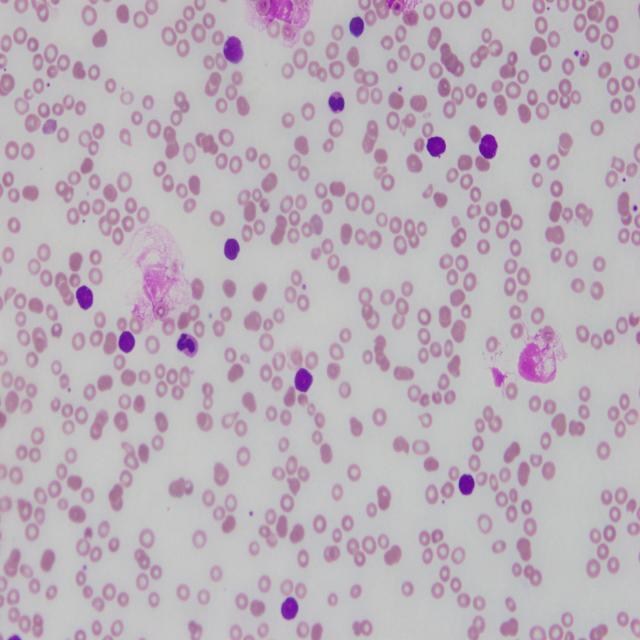cell: (224, 37, 244, 63), (76, 285, 94, 310), (479, 135, 498, 158), (281, 597, 299, 620), (295, 368, 312, 392), (426, 137, 446, 157), (224, 238, 240, 260), (459, 473, 475, 495), (119, 332, 135, 353), (349, 17, 365, 37)
